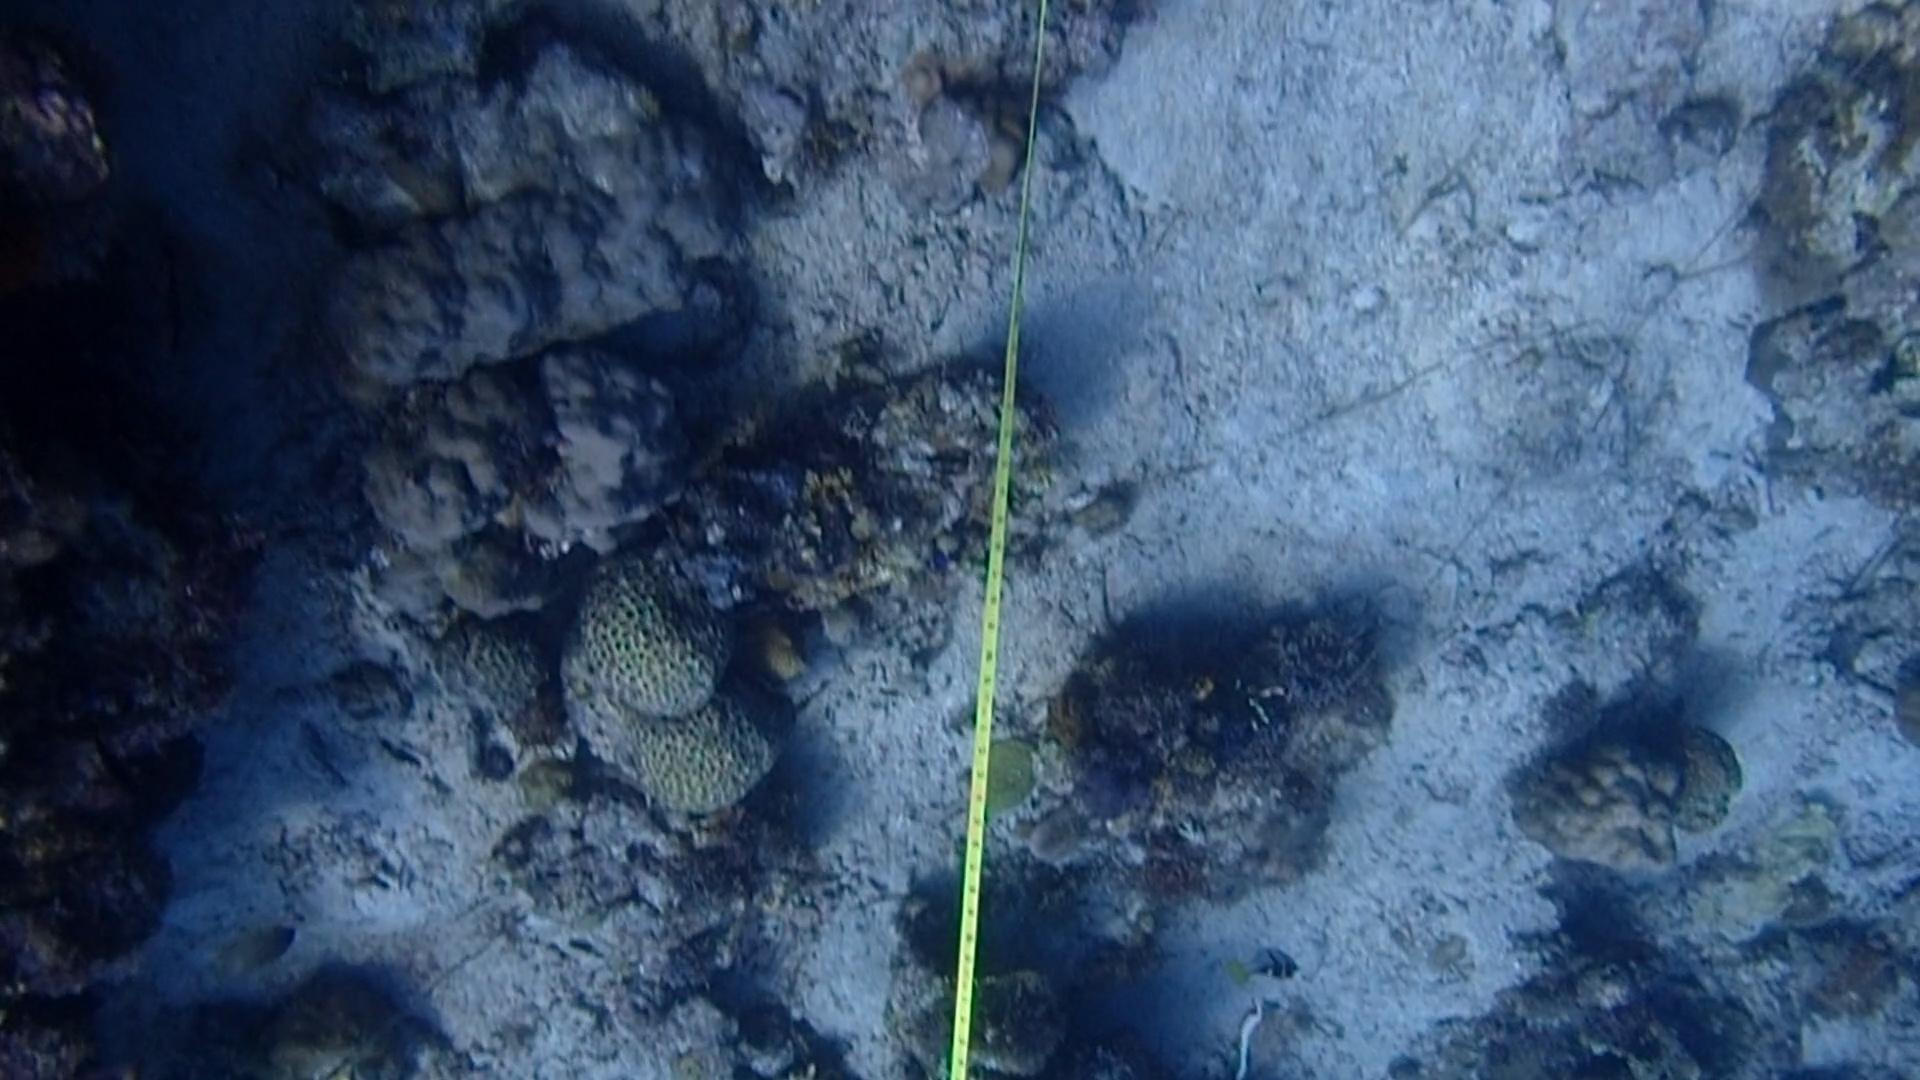Striped Fish: (1225, 945, 1309, 992)
